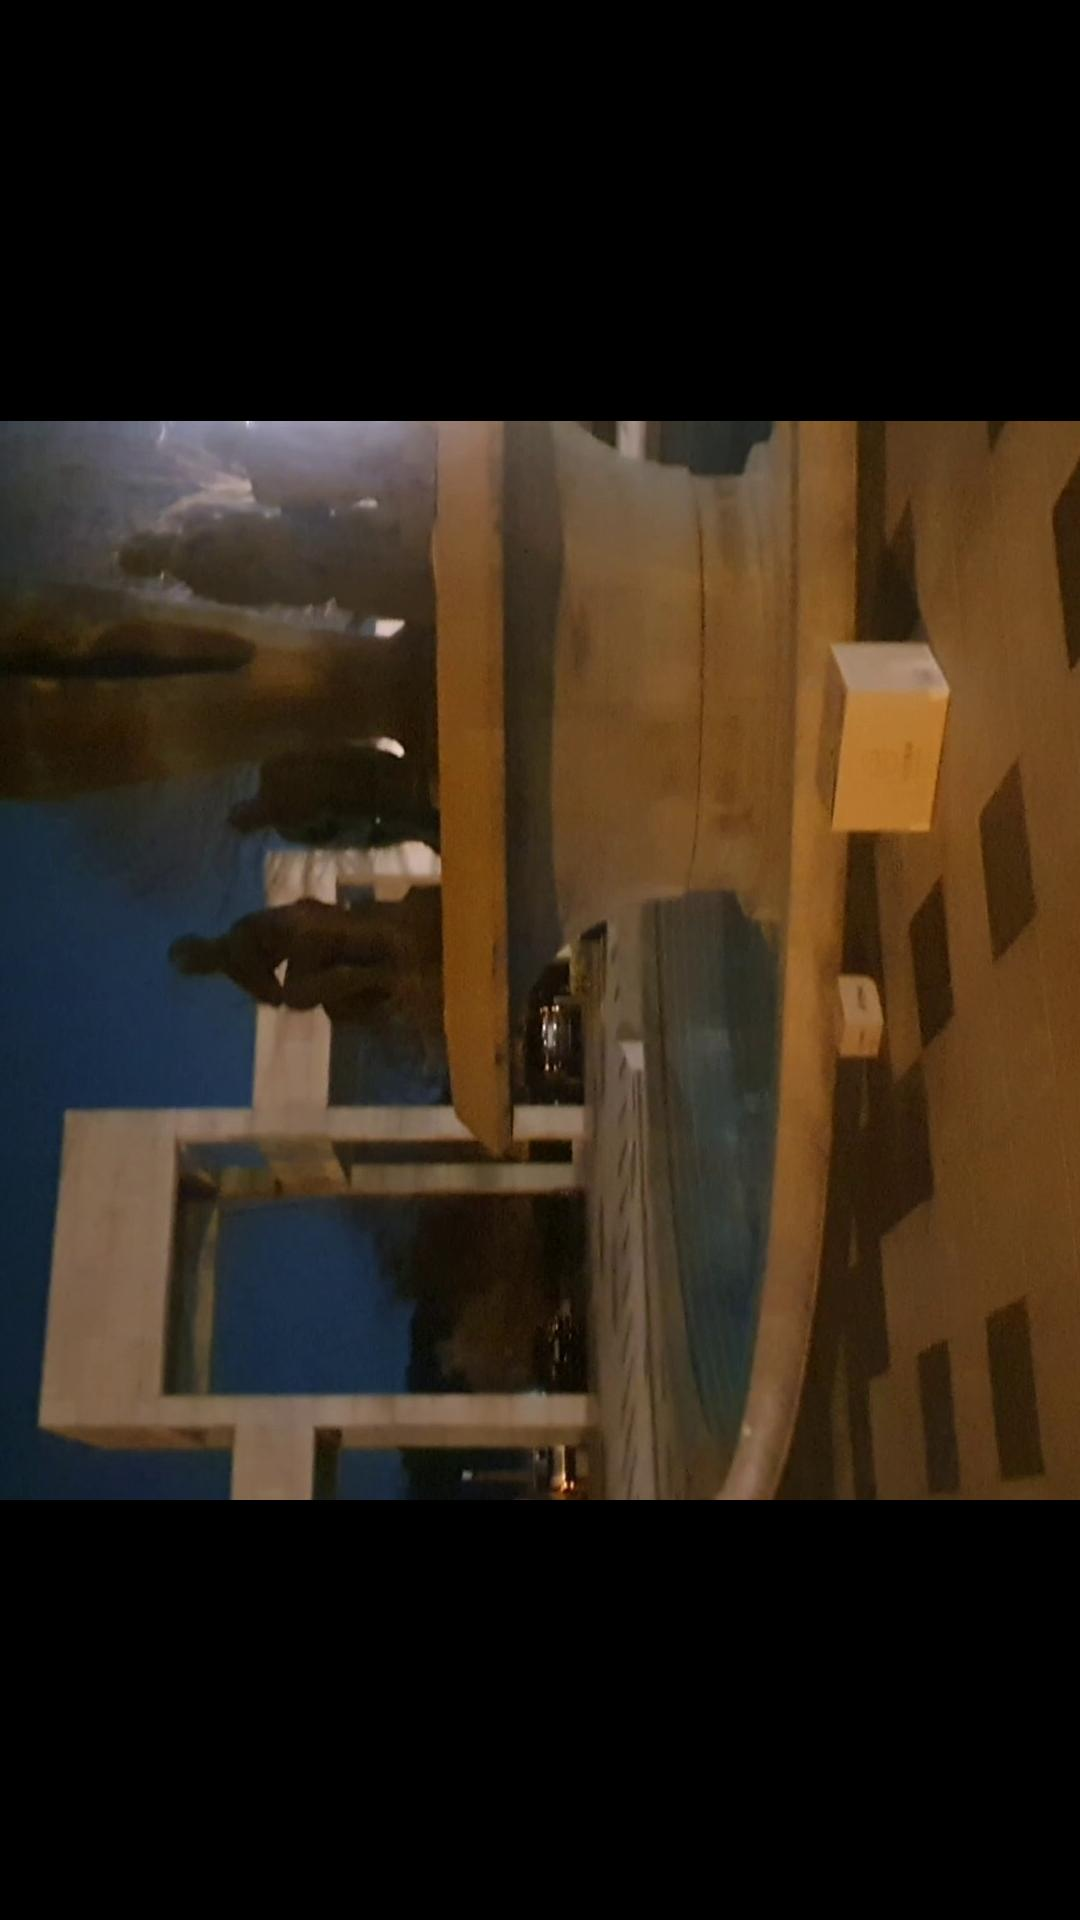Box: (803, 638, 949, 832), (810, 968, 882, 1062)
